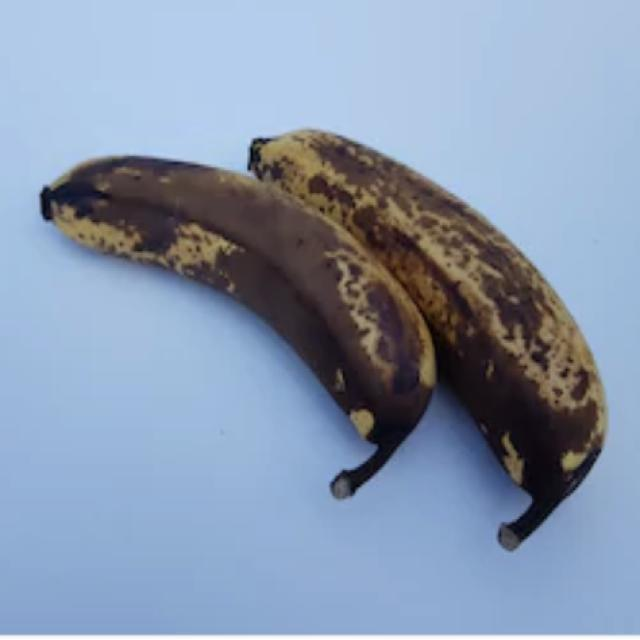Banana: (245, 126, 608, 552), (38, 152, 438, 500)
